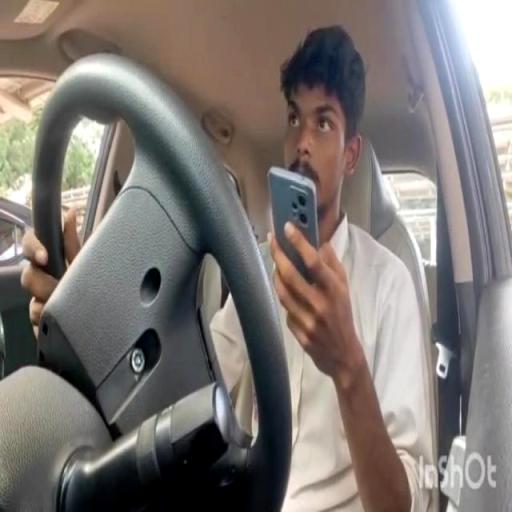Texting_on_phone: (241, 25, 441, 507)
